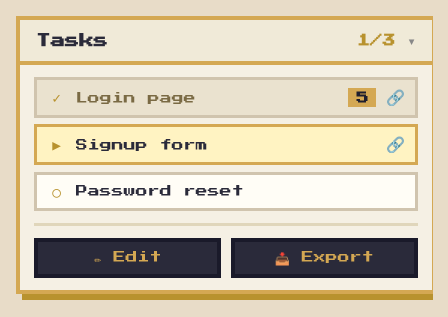
Scenario: TaskListPanel — edit mode › leader clicking Edit opens the TaskRowsEditor seeded from current items
Click the button "✏ Edit" at (128, 258), box [34, 238, 221, 278]
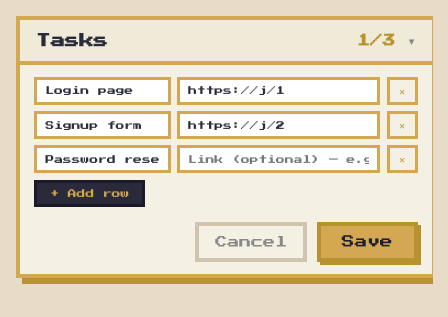
expect the element showing "✕ ✕ ✕ + Add row Cancel Save" is shown: met, box [34, 77, 418, 262]
